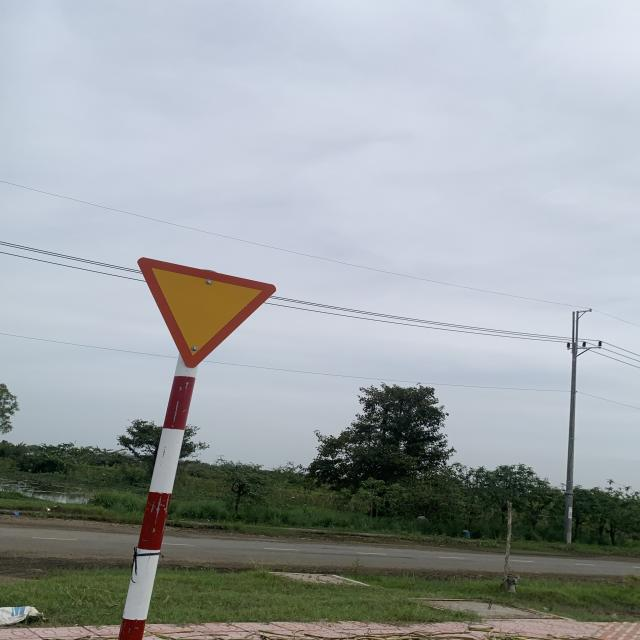Gioi_Han_Toc_Do_25: (136, 255, 276, 369)
